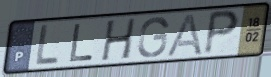A: (165, 11, 205, 58)
G: (136, 15, 171, 59)
H: (99, 16, 139, 64)
L: (33, 23, 61, 67), (67, 22, 95, 64)
P: (201, 8, 242, 57)
